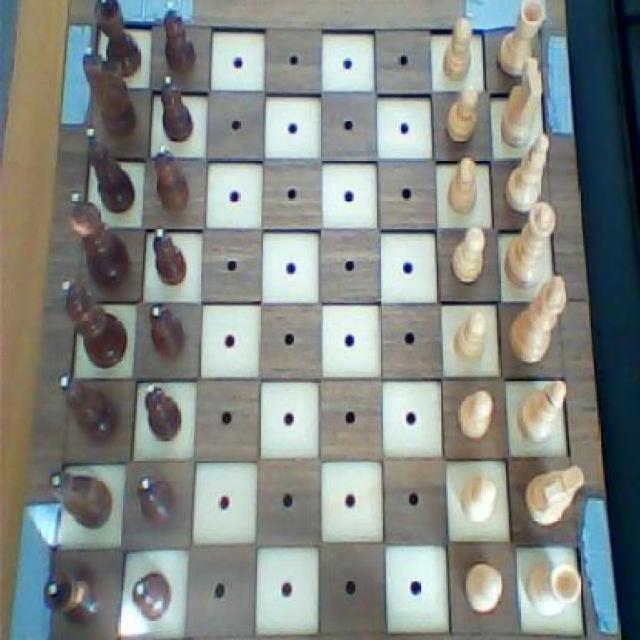bishop: (59, 376, 120, 446), (85, 138, 137, 210)
black-bishop: (62, 278, 128, 366)
black-king: (85, 54, 140, 139), (50, 468, 116, 524)
black-knight: (149, 147, 195, 216), (154, 72, 195, 143), (147, 226, 190, 289), (143, 378, 182, 442), (161, 7, 197, 74), (137, 468, 174, 526), (145, 308, 187, 357), (135, 572, 174, 621)
black-pawn: (69, 198, 133, 286)
black-queen: (90, 0, 144, 78), (41, 565, 104, 630)
black-rook: (505, 132, 553, 213), (518, 378, 567, 451)
white-bishop: (511, 278, 572, 364)
white-king: (526, 463, 591, 532), (500, 59, 545, 142)
white-knight: (436, 12, 486, 88), (443, 231, 492, 299), (450, 306, 496, 372), (446, 160, 492, 222), (460, 558, 505, 618), (458, 468, 502, 528), (440, 79, 488, 133), (454, 388, 501, 440)
white-pawn: (506, 203, 562, 283)
white-queen: (526, 555, 587, 624), (495, 2, 551, 76)
